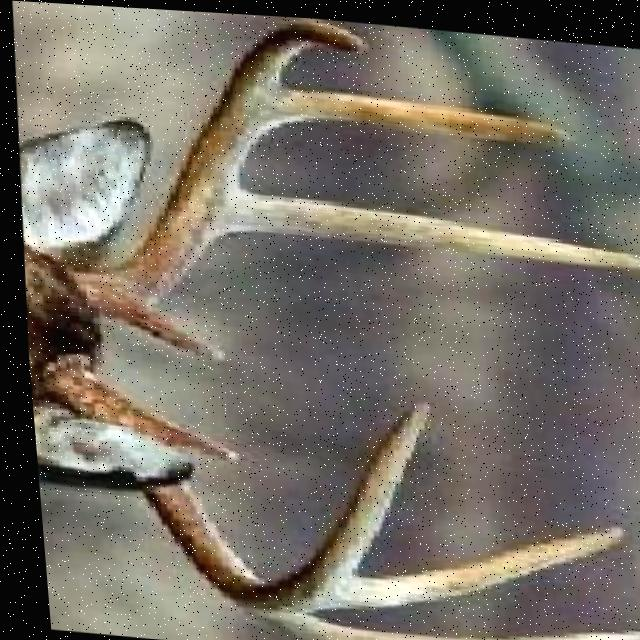L-F: (58, 15, 362, 317)
L-G1: (107, 304, 223, 359)
L-G2: (215, 183, 640, 266)
L-G3: (265, 78, 573, 139)
R-G1: (154, 417, 236, 460)
R-G2: (263, 611, 640, 640)
R-G3: (308, 514, 621, 607)
